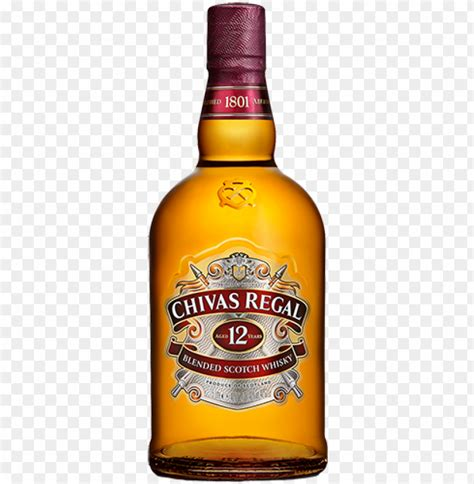alcohol: (147, 3, 328, 480)
